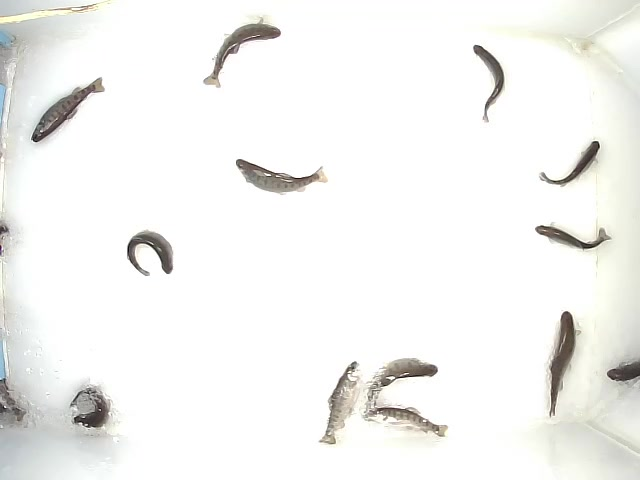fish: (201, 23, 284, 89), (30, 73, 107, 144), (361, 356, 440, 414), (543, 309, 582, 421), (316, 357, 366, 444), (232, 156, 329, 200), (538, 136, 603, 189), (122, 227, 177, 283), (470, 43, 507, 125), (366, 405, 449, 441), (534, 219, 614, 252), (69, 385, 114, 430)
